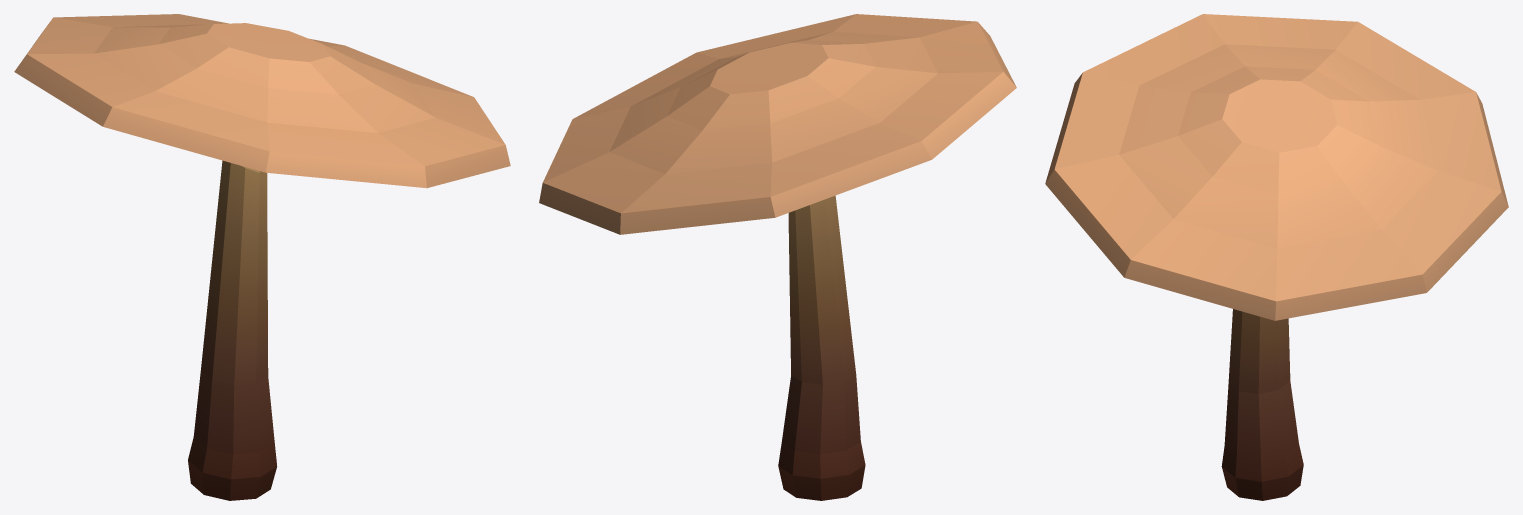
File: Mushroom_5.fbx
3 renders of one model, left to right at view 1: azimuth 30°, elevation 25°; view 2: azimuth 150°, elevation 25°; view 3: azimuth 270°, elevation 25°, orthographic. The views are drawn at different scales.
Parts seen in each view (by area): view 1: Mushroom_5; view 2: Mushroom_5; view 3: Mushroom_5.
Part boxes in pixels (x1=…): Mushroom_5: x1=14, y1=14, x2=510, y2=500; Mushroom_5: x1=539, y1=14, x2=1016, y2=500; Mushroom_5: x1=1045, y1=14, x2=1508, y2=500.
Size of the model in its own units: 33.13 by 33.43 by 34.74.
